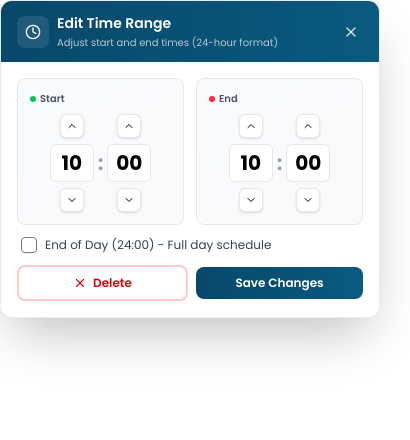
Test case: CustomTimePicker › editing an input clears the previous error message
Click the button "Save Changes": point(280, 283) x1=196 y1=267 x2=363 y2=299
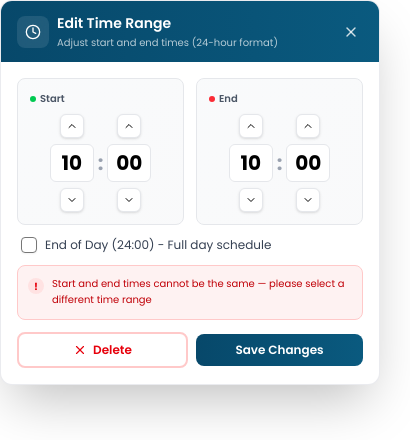
Now the text "cannot be the same" is shown, box x1=52 y1=276 x2=344 y2=307
Replace the text in the field named "Start hour" with "11": point(72, 163) x1=50 y1=144 x2=94 y2=182
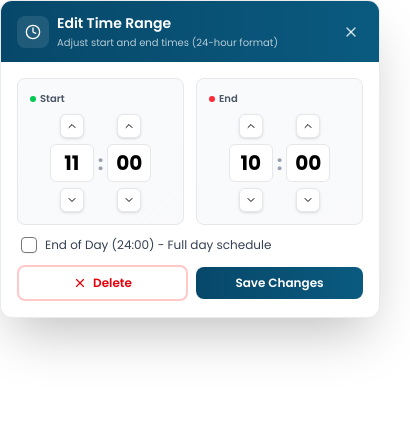
Now the text "cannot be the same" is gone
